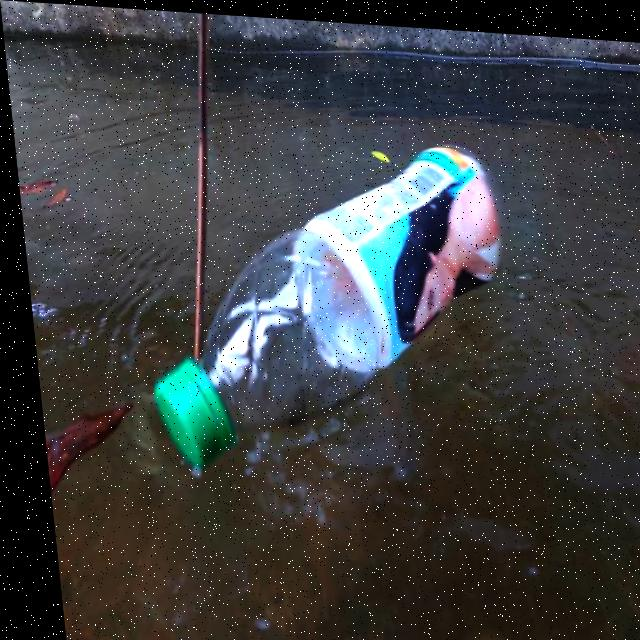waterbottle: (128, 126, 574, 483)
